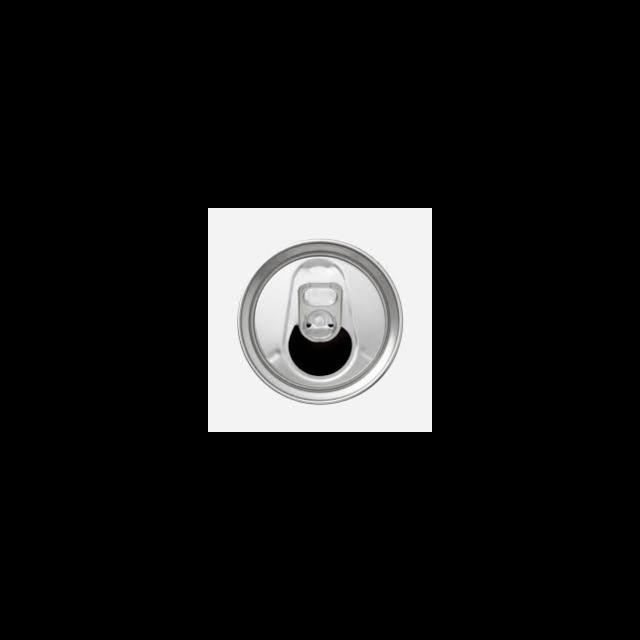metal: (232, 235, 410, 407)
